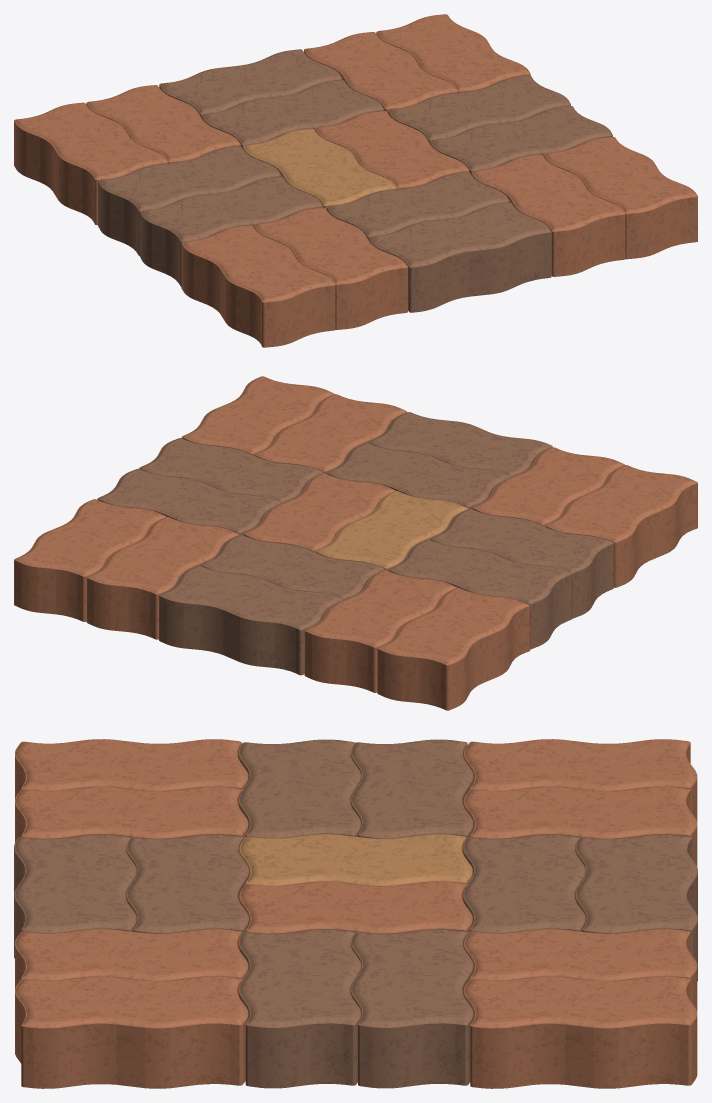
The model's file is Basket Weave.glb.
3 renders of one model, top to bottom at view 1: azimuth 30°, elevation 25°; view 2: azimuth 150°, elevation 25°; view 3: azimuth 270°, elevation 25°, orthographic. The views are drawn at different scales.
Parts seen in each view (by area): view 1: Tropical Wave.007, Tropical Wave.002, Tropical Wave.011, Tropical Wave.015, Tropical Wave.014, Tropical Wave.006, Tropical Wave.004, Tropical Wave.005, Tropical Wave.012, Tropical Wave.008, Tropical Wave.001, Tropical Wave.017 (+6 smaller); view 2: Tropical Wave.011, Tropical Wave.009, Tropical Wave.007, Tropical Wave.010, Tropical Wave.017, Tropical Wave.016, Tropical Wave.005, Tropical Wave.004, Tropical Wave.003, Tropical Wave.013, Tropical Wave.015, Tropical Wave.001 (+6 smaller); view 3: Tropical Wave.014, Tropical Wave.016, Tropical Wave.013, Tropical Wave.012, Tropical Wave.009, Tropical Wave.002, Tropical Wave.010, Tropical Wave.006, Tropical Wave.011, Tropical Wave.017, Tropical Wave.007, Tropical Wave.015 (+6 smaller).
Boxes of the visible parts, bbox=[...] form: Tropical Wave.007: bbox=[181, 225, 335, 347]; Tropical Wave.002: bbox=[368, 202, 551, 312]; Tropical Wave.011: bbox=[14, 102, 167, 225]; Tropical Wave.015: bbox=[471, 154, 625, 276]; Tropical Wave.014: bbox=[543, 136, 697, 259]; Tropical Wave.006: bbox=[254, 207, 407, 329]; Tropical Wave.004: bbox=[140, 176, 322, 286]; Tropical Wave.005: bbox=[98, 146, 280, 255]; Tropical Wave.012: bbox=[430, 106, 612, 174]; Tropical Wave.008: bbox=[201, 80, 384, 148]; Tropical Wave.001: bbox=[242, 128, 396, 209]; Tropical Wave.017: bbox=[304, 32, 457, 112]; Tropical Wave.011: bbox=[377, 587, 530, 710]; Tropical Wave.009: bbox=[159, 565, 342, 675]; Tropical Wave.007: bbox=[545, 465, 697, 587]; Tropical Wave.010: bbox=[304, 570, 457, 692]; Tropical Wave.017: bbox=[86, 517, 239, 639]; Tropical Wave.016: bbox=[14, 499, 166, 621]; Tropical Wave.005: bbox=[388, 539, 571, 649]; Tropical Wave.004: bbox=[430, 509, 613, 618]; Tropical Wave.003: bbox=[326, 442, 510, 508]; Tropical Wave.013: bbox=[97, 468, 281, 534]; Tropical Wave.015: bbox=[254, 394, 407, 473]; Tropical Wave.001: bbox=[316, 491, 468, 570]; Tropical Wave.014: bbox=[15, 976, 248, 1088]; Tropical Wave.016: bbox=[463, 976, 697, 1088]; Tropical Wave.013: bbox=[350, 929, 473, 1088]; Tropical Wave.012: bbox=[238, 929, 361, 1088]; Tropical Wave.009: bbox=[575, 834, 697, 981]; Tropical Wave.002: bbox=[14, 834, 136, 958]; Tropical Wave.010: bbox=[463, 786, 697, 866]; Tropical Wave.006: bbox=[15, 786, 248, 842]; Tropical Wave.011: bbox=[463, 739, 697, 821]; Tropical Wave.017: bbox=[463, 929, 697, 1011]; Tropical Wave.007: bbox=[15, 739, 248, 798]; Tropical Wave.015: bbox=[15, 929, 248, 987].
Size of the model in its own units: 0.743 by 0.0762 by 0.743.
3 materials, 3 textured.
